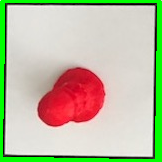Red Pawn: (36, 64, 105, 128)
